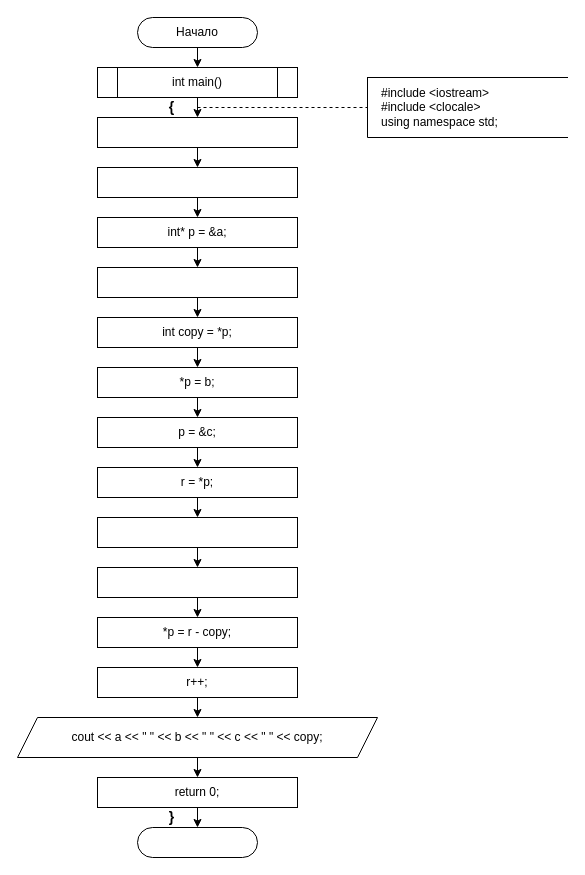
Some shapes in this 585 by 875 pixel diagram are drawn without their labels. Each missing label, with the centre of its shape:
*p = b + copy;: point 197,532
int a = 2, b = 5, c = 8;: point 197,182
int& r = a;: point 197,282
p = &b;: point 197,582
setlocale(LC_ALL, ".65001");: point 197,132
Конец: point 197,842
